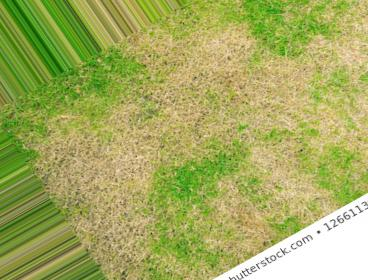patch: (186, 46, 280, 138), (55, 139, 144, 226), (301, 54, 342, 146), (255, 157, 309, 215), (202, 193, 243, 236)
